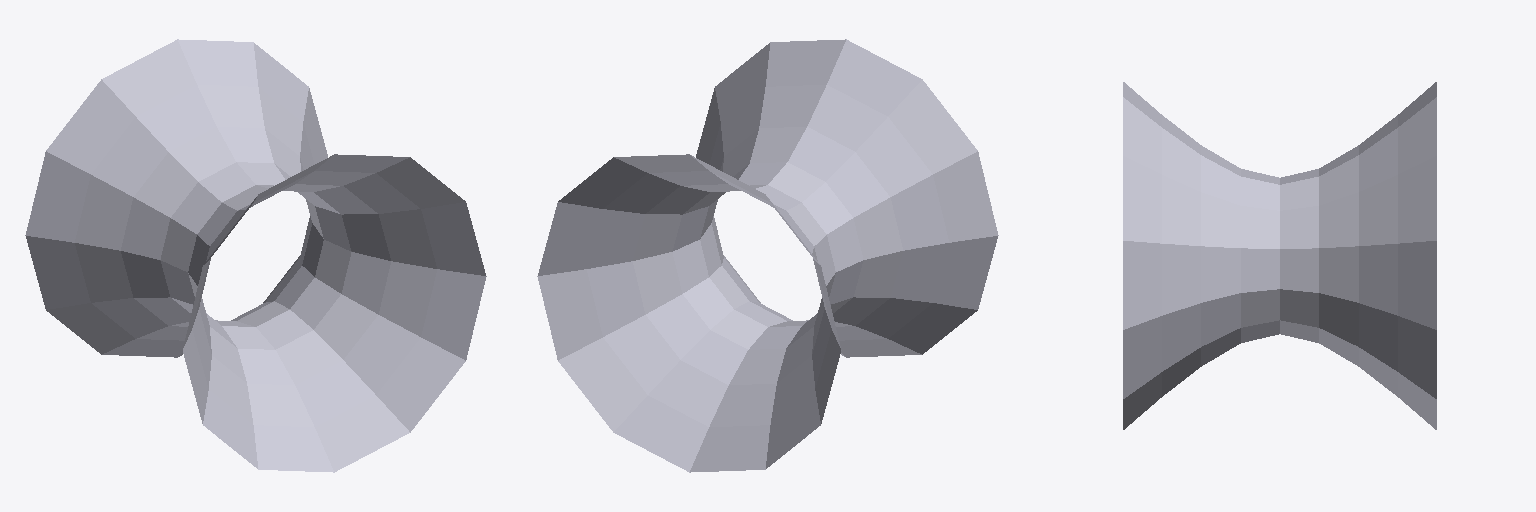
File: hyperboloid_one_sheet.obj
The picture shows the model from 3 angles: view 1: azimuth 30°, elevation 25°; view 2: azimuth 150°, elevation 25°; view 3: azimuth 270°, elevation 25°; orthographic projection.
Size of the model in its own units: 4.47 by 4.47 by 4.